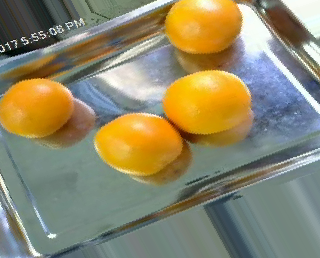Orange: (162, 68, 252, 136), (93, 111, 182, 177), (1, 77, 74, 138), (163, 1, 243, 52)
